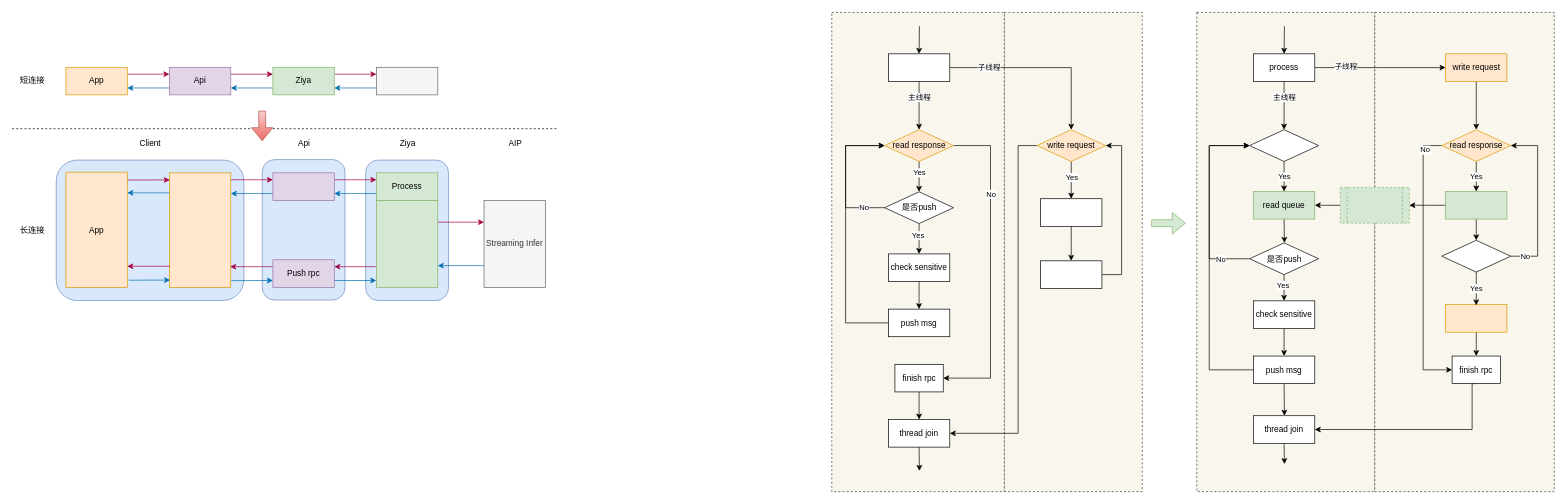
The diagram is 1566 pixels wide and 504 high, and some of its shapes have lost their labels. The shapes that lost their labels are listed below. From the top down, each one's centre as x and y in pixels, then its label:
(x=407, y=81): Infer
(x=919, y=67): stream infer
(x=1284, y=145): while true
(x=303, y=186): Receiver rpc
(x=1374, y=205): token queue
(x=1476, y=205): write queue
(x=200, y=229): Klink
(x=1071, y=212): check
(x=407, y=243): Windup
(x=1476, y=256): check break
(x=1071, y=274): sleep
(x=1476, y=318): stop request
